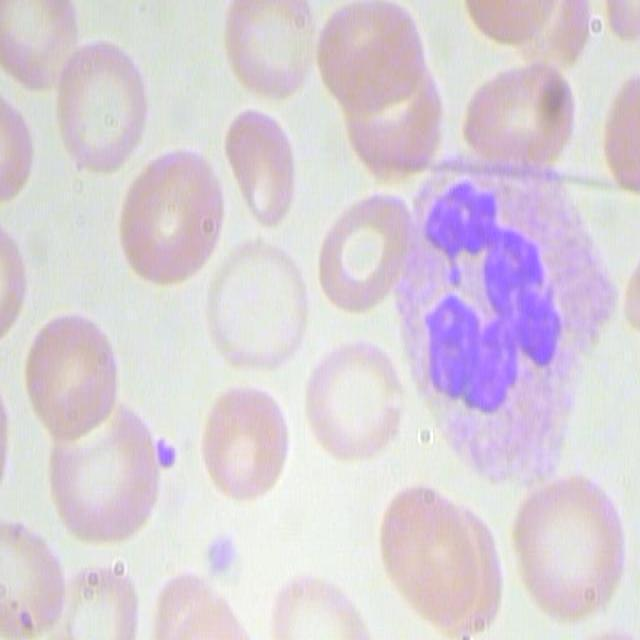Platelets: (200, 529, 243, 584), (147, 435, 179, 473)
RBC: (43, 389, 166, 556), (504, 471, 633, 626), (371, 480, 489, 640), (115, 144, 229, 295), (204, 236, 316, 383), (300, 330, 411, 470), (455, 60, 588, 173), (47, 33, 147, 183), (314, 185, 420, 320), (23, 307, 124, 445), (309, 1, 423, 115), (192, 376, 290, 508), (223, 1, 317, 108), (226, 96, 295, 231)
WBC: (379, 148, 619, 493)
